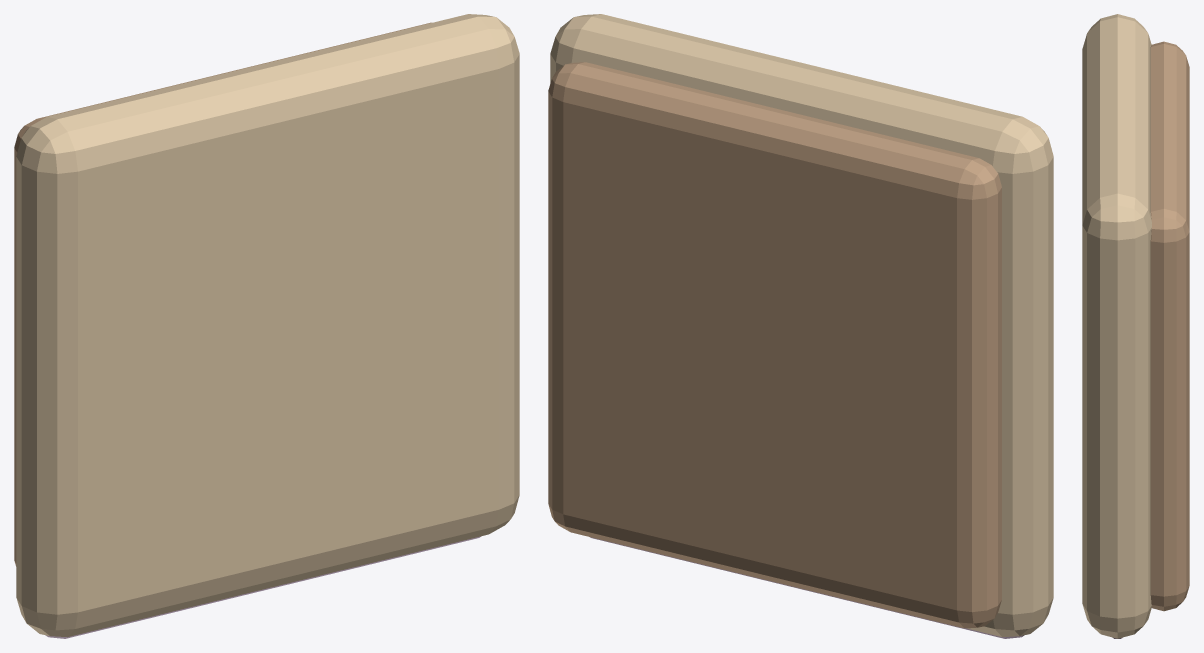
File: plot_farm_dry.fbx
3 views of the same model, side by side, from view 1: azimuth 30°, elevation 25°; view 2: azimuth 150°, elevation 25°; view 3: azimuth 270°, elevation 25° (orthographic). The views are drawn at different scales.
Parts seen in each view (by area): view 1: plot_farm_dry_base, plot_farm_dry_solo; view 2: plot_farm_dry_solo, plot_farm_dry_base; view 3: plot_farm_dry_base, plot_farm_dry_solo.
Boxes of the visible parts, x1,y1,x2,y2 form: plot_farm_dry_base: (16,14,519,638); plot_farm_dry_solo: (14,22,431,566); plot_farm_dry_solo: (548,62,1001,628); plot_farm_dry_base: (550,14,1053,638); plot_farm_dry_base: (1082,14,1151,638); plot_farm_dry_solo: (1150,41,1189,611).
Bounding box in the file's own units: 190 × 191 × 41.75.
